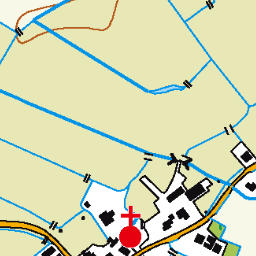church: (115, 204, 144, 252)
